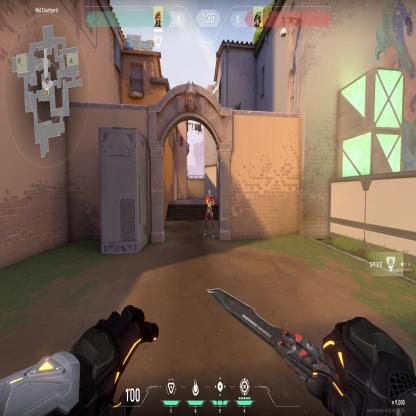enemy: (203, 187, 215, 240)
